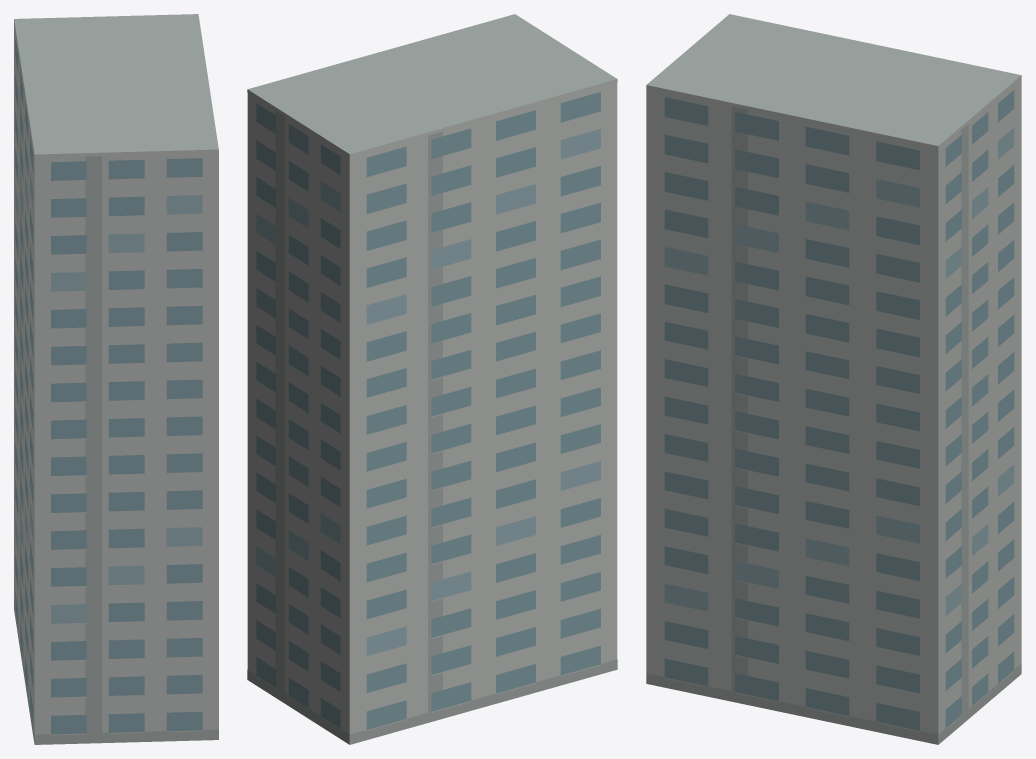
File: residential-355a4bd3-6b1d-4be9-8ca9-38521999130c.glb
3 renders of one model, left to right at view 1: azimuth 30°, elevation 25°; view 2: azimuth 150°, elevation 25°; view 3: azimuth 270°, elevation 25°, orthographic.
Parts seen in each view (by area): view 1: residential-355a4bd3-6b1d-4be9-8ca9-38521999130c.tmp; view 2: residential-355a4bd3-6b1d-4be9-8ca9-38521999130c.tmp; view 3: residential-355a4bd3-6b1d-4be9-8ca9-38521999130c.tmp.
Part boxes in pixels (bbox=[...]): residential-355a4bd3-6b1d-4be9-8ca9-38521999130c.tmp: bbox=[14, 14, 218, 744]; residential-355a4bd3-6b1d-4be9-8ca9-38521999130c.tmp: bbox=[247, 14, 617, 744]; residential-355a4bd3-6b1d-4be9-8ca9-38521999130c.tmp: bbox=[646, 14, 1021, 744].
Bounding box in the file's own units: 20.35 × 43 × 24.43.
